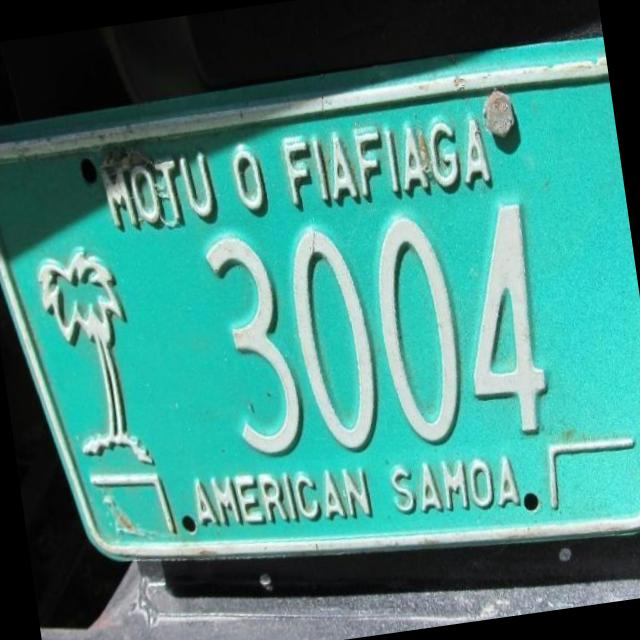LicensePlate: (0, 57, 640, 624)
